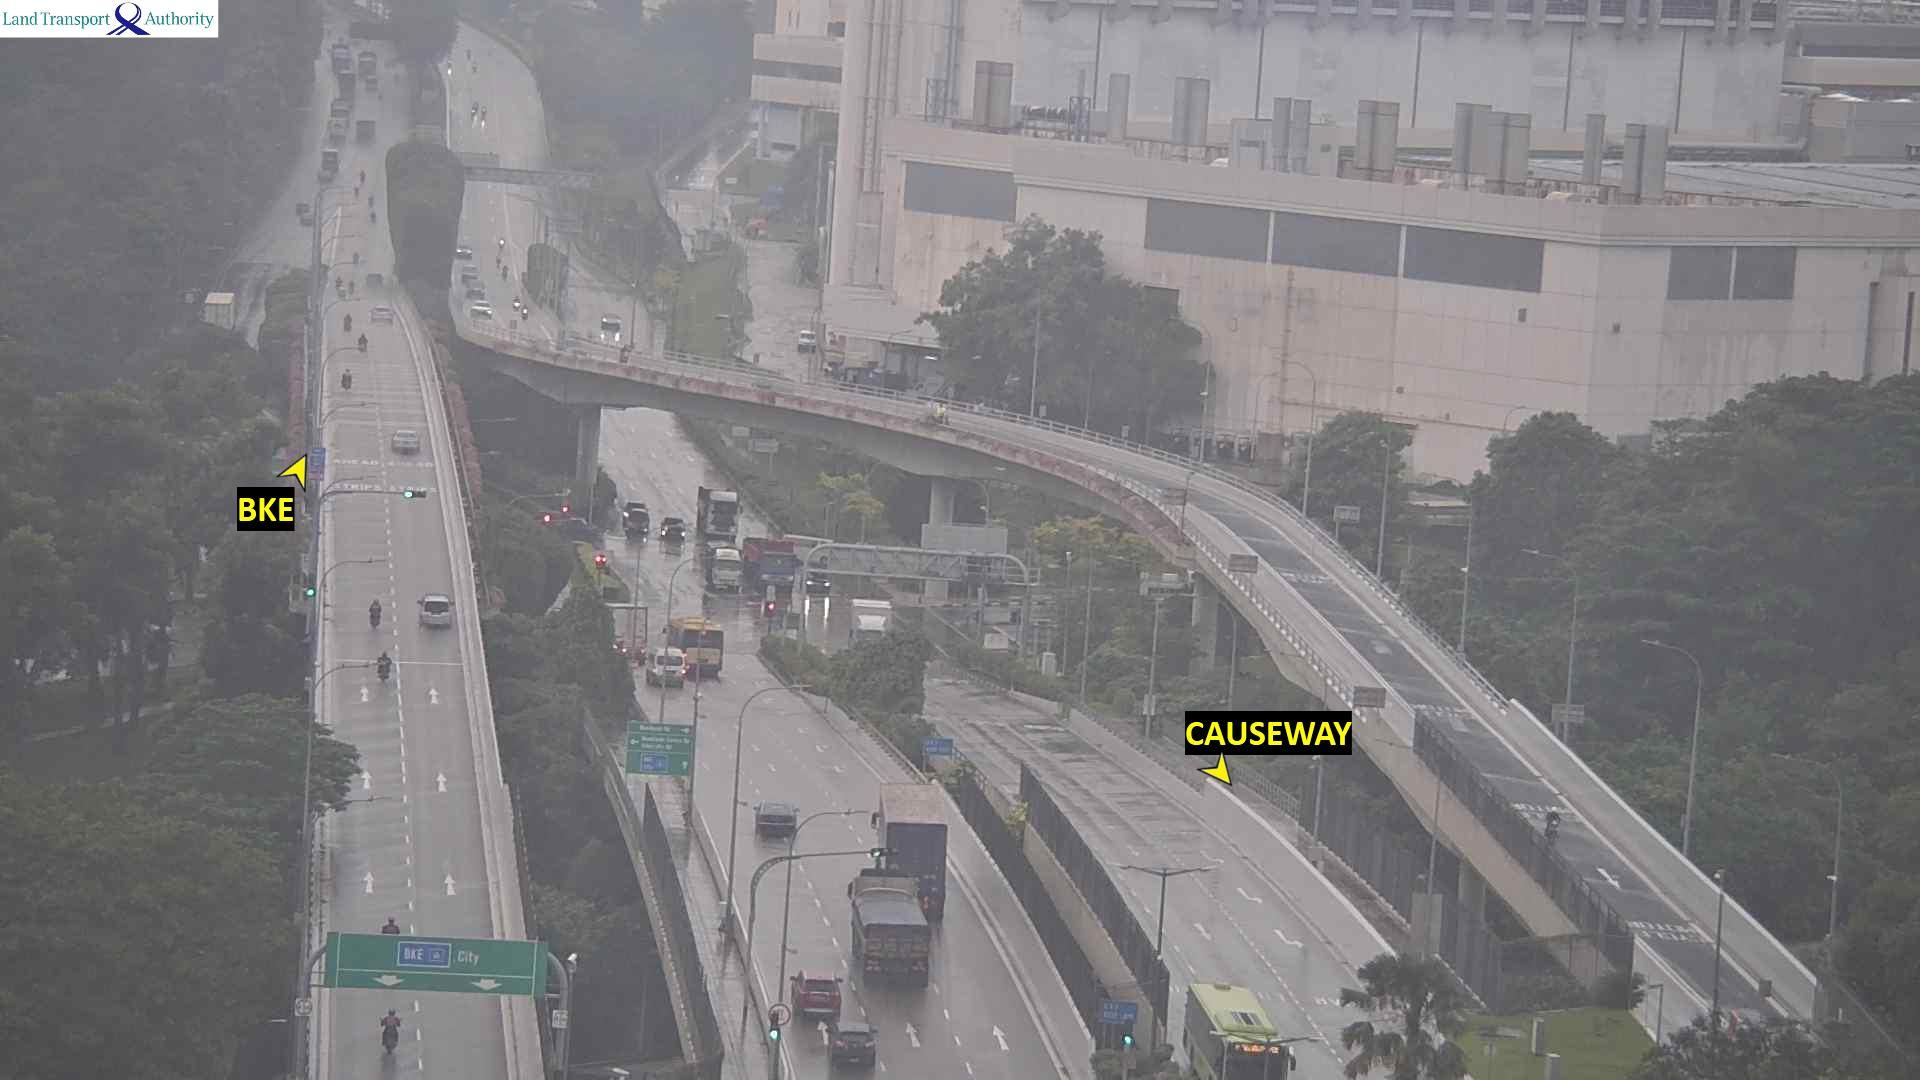vehicle-causeway-johor: (1185, 984, 1291, 1080), (746, 546, 795, 597), (698, 485, 737, 537), (848, 599, 890, 645), (708, 550, 740, 596), (473, 301, 492, 318), (932, 405, 948, 423), (1549, 807, 1557, 839), (454, 247, 471, 261), (460, 272, 472, 286), (522, 306, 529, 320), (513, 295, 518, 309), (504, 265, 508, 276)
vehicle-causeway-singapore: (841, 869, 938, 976), (878, 783, 947, 870), (827, 1021, 884, 1071), (748, 804, 802, 843), (663, 618, 723, 653), (793, 975, 840, 1013), (419, 597, 450, 626), (393, 434, 427, 455), (384, 1013, 404, 1046), (371, 307, 393, 323), (378, 653, 390, 679), (386, 916, 404, 934), (367, 599, 375, 624), (368, 273, 384, 285), (363, 338, 373, 355), (344, 369, 351, 393), (343, 314, 351, 332), (343, 368, 349, 388), (336, 278, 344, 294)
